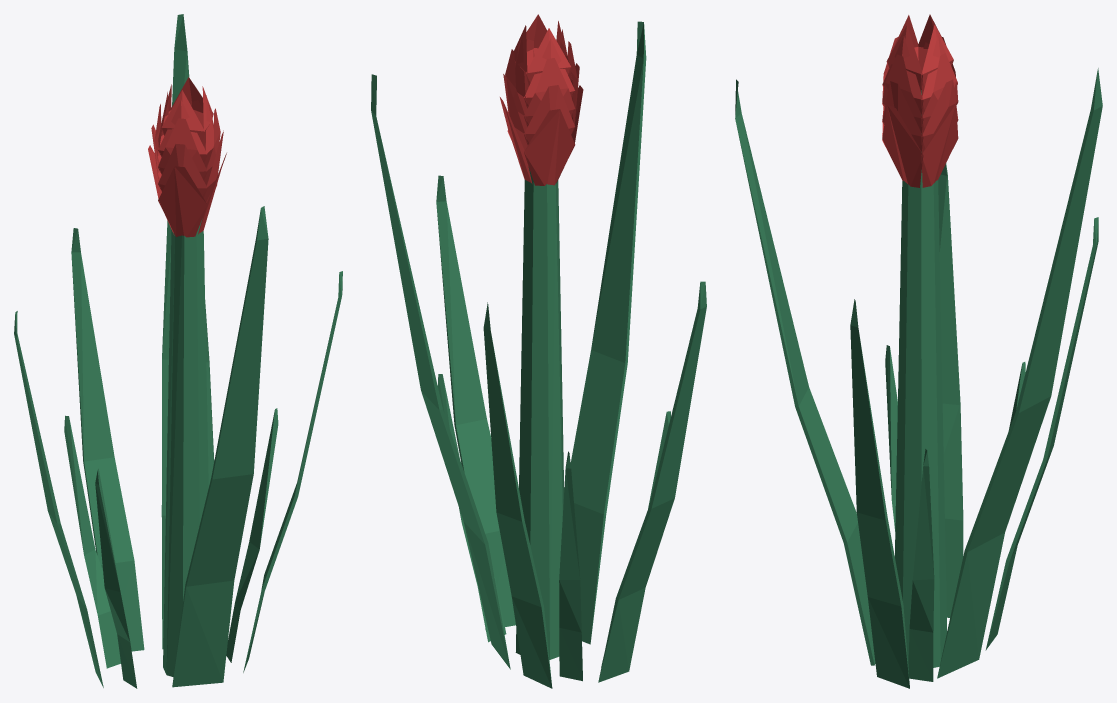
File: flower_06.glb
3 renders of one model, left to right at view 1: azimuth 30°, elevation 25°; view 2: azimuth 150°, elevation 25°; view 3: azimuth 270°, elevation 25°, orthographic. The views are drawn at different scales.
Visible parts, largest first — view 1: Object_111, Object_112; view 2: Object_111, Object_112; view 3: Object_111, Object_112.
Part boxes in pixels (left/top/right/bottom): Object_111: left=14, top=14, right=342, bottom=688; Object_112: left=148, top=77, right=226, bottom=237; Object_111: left=371, top=21, right=706, bottom=688; Object_112: left=500, top=14, right=583, bottom=185; Object_111: left=735, top=68, right=1102, bottom=688; Object_112: left=882, top=14, right=958, bottom=187.
Bounding box in the file's own units: 0.8846 × 1.71 × 0.8935.
